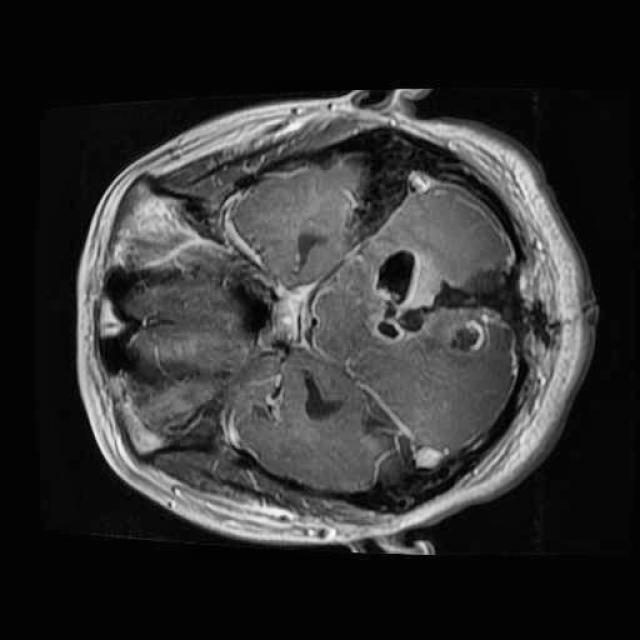Tumor: (355, 228, 523, 362)
